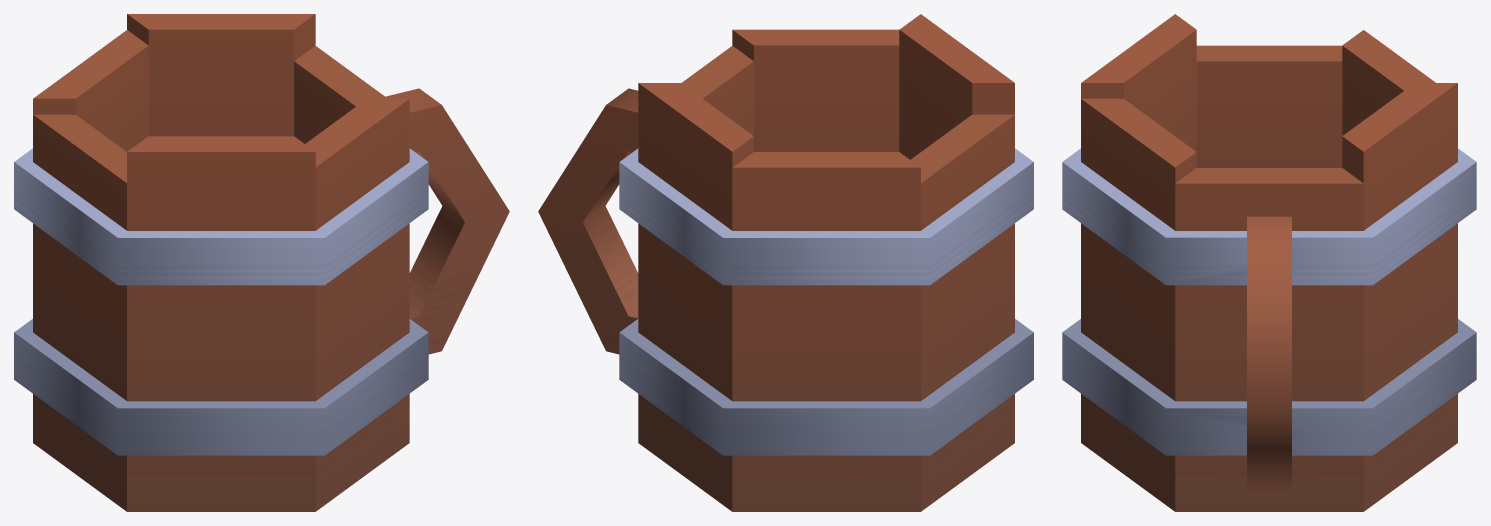
File: kf_mug.glb
3 renders of one model, left to right at view 1: azimuth 30°, elevation 25°; view 2: azimuth 150°, elevation 25°; view 3: azimuth 270°, elevation 25°, orthographic.
Parts seen in each view (by area): view 1: mug; view 2: mug; view 3: mug.
Part boxes in pixels (left/top/right/bottom): mug: left=14, top=14, right=509, bottom=511; mug: left=538, top=14, right=1033, bottom=511; mug: left=1062, top=14, right=1476, bottom=511.
Bounding box in the file's own units: 0.1002 × 0.0797 × 0.0831.
1 material, 1 textured.
